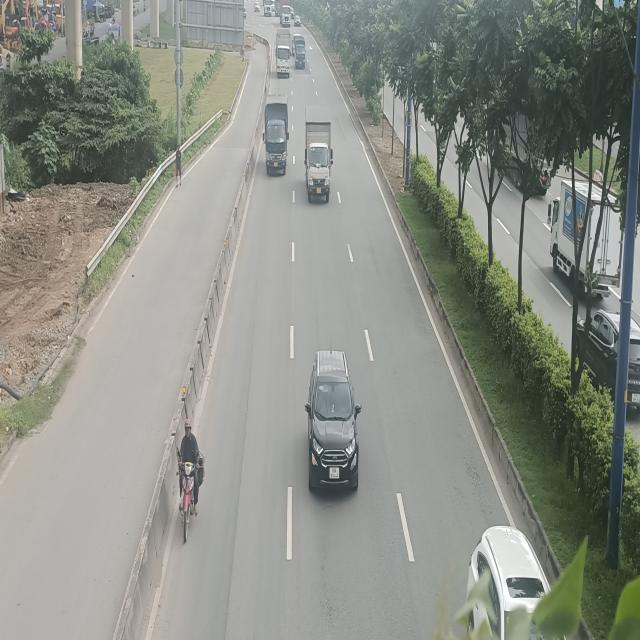car: (304, 348, 362, 492)
container: (279, 0, 291, 27)
truck: (303, 102, 333, 200), (262, 94, 289, 176), (275, 28, 292, 77), (294, 36, 306, 69)
